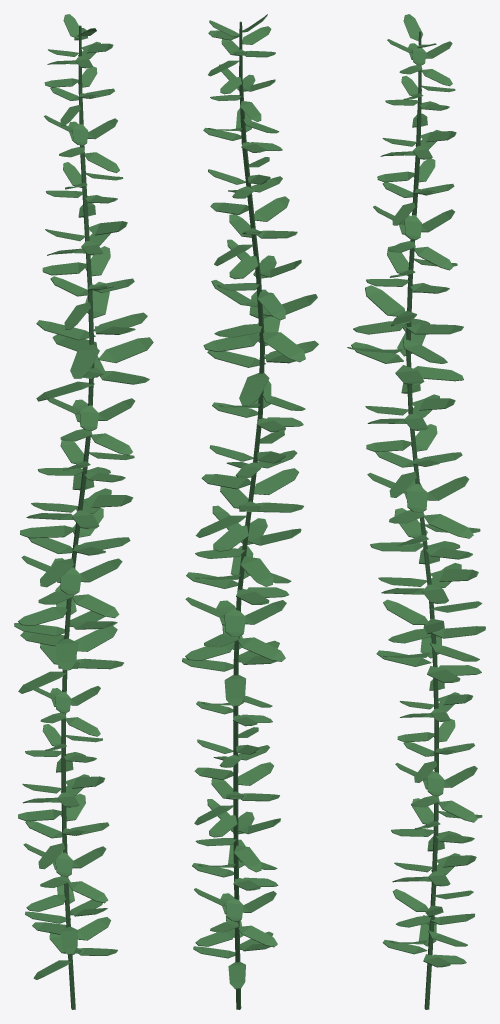
The model's file is Seaweed_016.glb.
3 renders of one model, left to right at view 1: azimuth 90°, elevation 25°; view 2: azimuth 150°, elevation 25°; view 3: azimuth 270°, elevation 25°, orthographic.
Visible parts, largest first — view 1: Seaweed_016; view 2: Seaweed_016; view 3: Seaweed_016.
Boxes of the visible parts, x1,y1,x2,y2 form: Seaweed_016: [14, 14, 153, 1009]; Seaweed_016: [182, 14, 318, 1009]; Seaweed_016: [347, 14, 485, 1009].
Bounding box in the file's own units: 0.8977 × 7.6 × 0.9709.
Materials: 1 (1 with a texture image).
